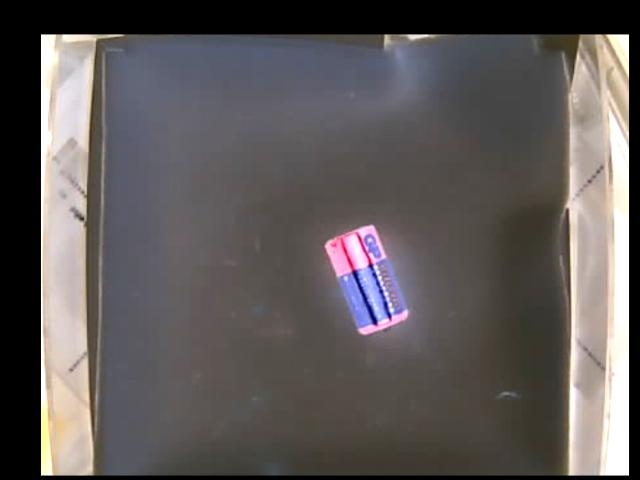Battery: (323, 224, 408, 335)
